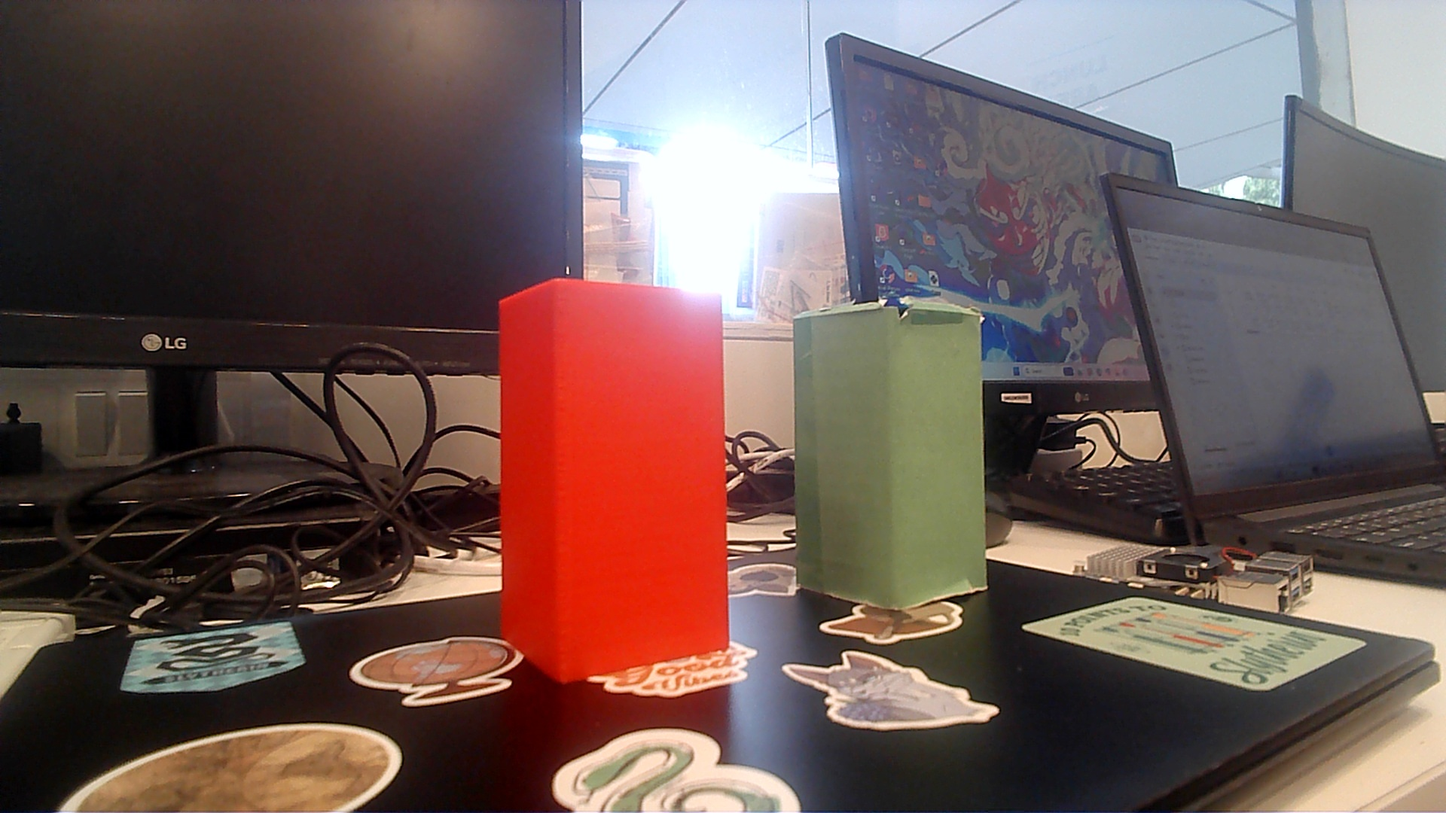red: (494, 280, 740, 671)
